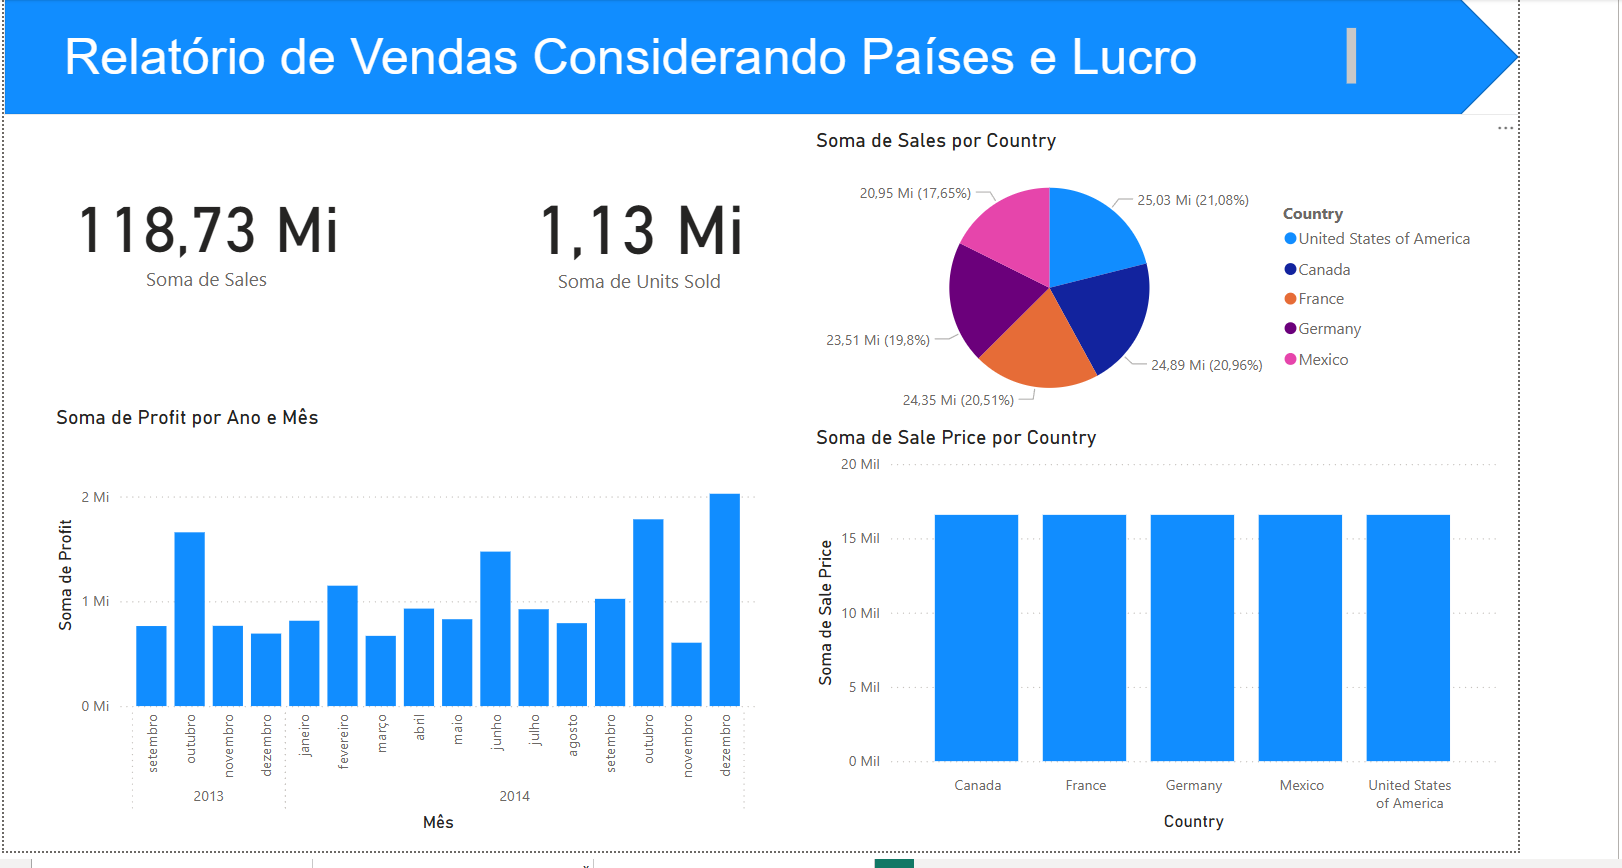

The dashboard page shown, as its layout file describes it:
{"tool":"powerbi","page":{"name":"Relatorio de Vendas Considerando Pais e Lucro","canvas":[1280,720],"ordinal":1},"visuals":[{"type":"clusteredColumnChart","fields":{"Category":["financials.Date.Variation.Hierarquia de datas.Ano","financials.Date.Variation.Hierarquia de datas.Mês"],"Y":["Sum(financials.Profit)"]},"box":[38.8,343,601.2,365.4],"z":0},{"type":"card","fields":{"Values":["Sum(financials.Sales)"]},"box":[38.8,83.7,264.4,228.6],"z":1000},{"type":"card","fields":{"Values":["Sum(financials.Units Sold)"]},"box":[393,83.7,287.8,228.6],"z":2000},{"type":"clusteredColumnChart","fields":{"Category":["financials.Country"],"Y":["Sum(financials.Sale Price)"]},"box":[680.8,360.3,584.9,348.1],"z":3000},{"type":"pieChart","fields":{"Y":["Sum(financials.Sales)"],"Category":["financials.Country"]},"box":[680.8,109.2,572.6,251.1],"z":4000},{"type":"shape","box":[0,0,1280,98],"z":5000},{"type":"textbox","box":[45.9,19.4,1102.4,58.2],"z":6000}]}

Visuals, with their boxes on the page's 1280x720 design canvas (x1, y1, x2, y2). These are canvas units, not pixel positions in the 1622x868 screenshot, which may show the page scaled, cropped or inside an application window:
clusteredColumnChart - financials.Date.Variation.Hierarquia de datas.Ano x financials.Date.Variation.Hierarquia de datas.Mês: box=[39, 343, 640, 708]
card - Sum(financials.Sales): box=[39, 84, 303, 312]
card - Sum(financials.Units Sold): box=[393, 84, 681, 312]
clusteredColumnChart - financials.Country x Sum(financials.Sale Price): box=[681, 360, 1266, 708]
pieChart - Sum(financials.Sales) x financials.Country: box=[681, 109, 1253, 360]
shape: box=[0, 0, 1280, 98]
textbox: box=[46, 19, 1148, 78]
